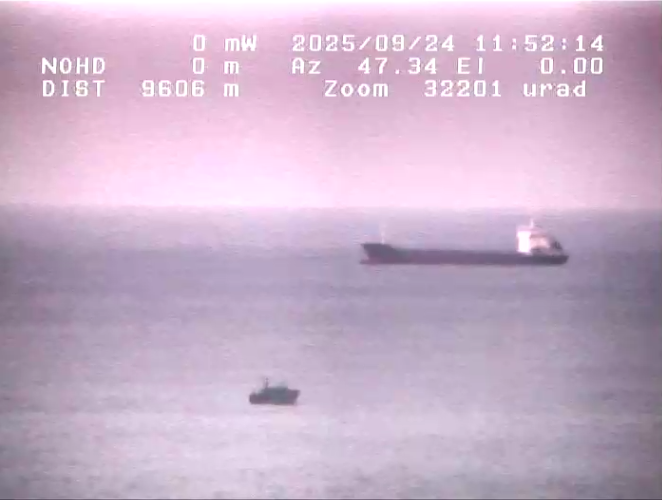TANKER: (336, 214, 595, 288)
TUGS: (243, 375, 315, 412)
